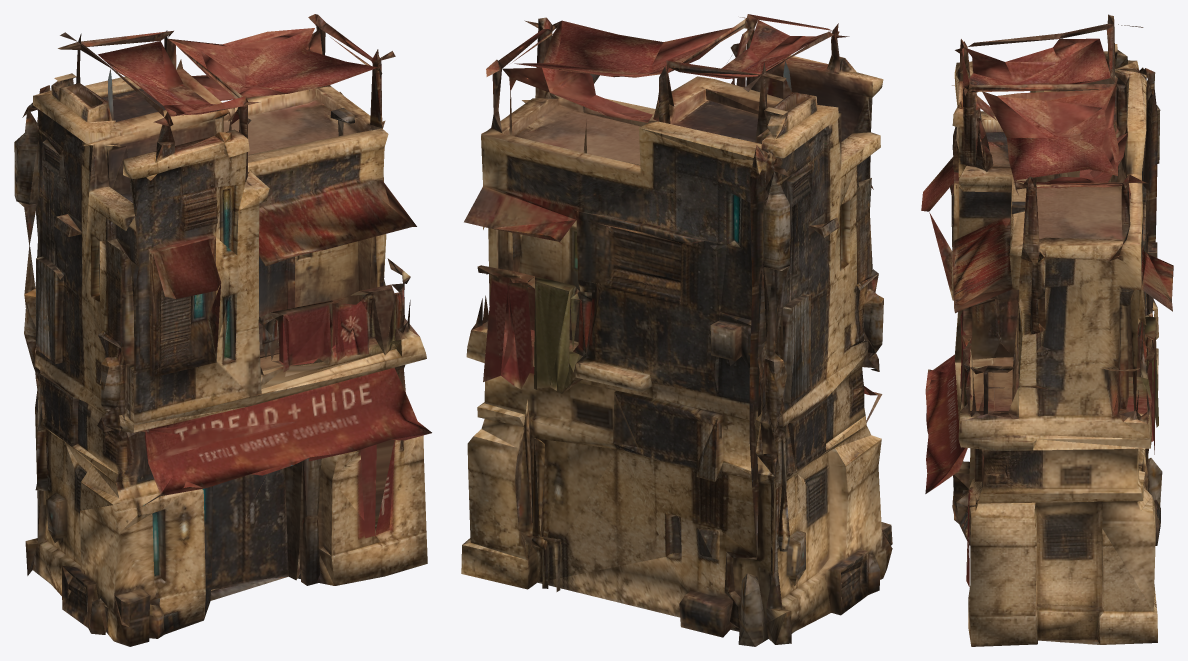
File: thread.fbx
3 views of the same model, side by side, from view 1: azimuth 30°, elevation 25°; view 2: azimuth 150°, elevation 25°; view 3: azimuth 270°, elevation 25° (orthographic). The views are drawn at different scales.
Visible parts, largest first — view 1: Mesh_0; view 2: Mesh_0; view 3: Mesh_0.
Part boxes in pixels (x1=…): Mesh_0: x1=14, y1=14, x2=431, y2=646; Mesh_0: x1=461, y1=14, x2=892, y2=646; Mesh_0: x1=921, y1=14, x2=1173, y2=646.
Bounding box in the file's own units: 118 × 190 × 85.36.
1 material, 1 textured.
